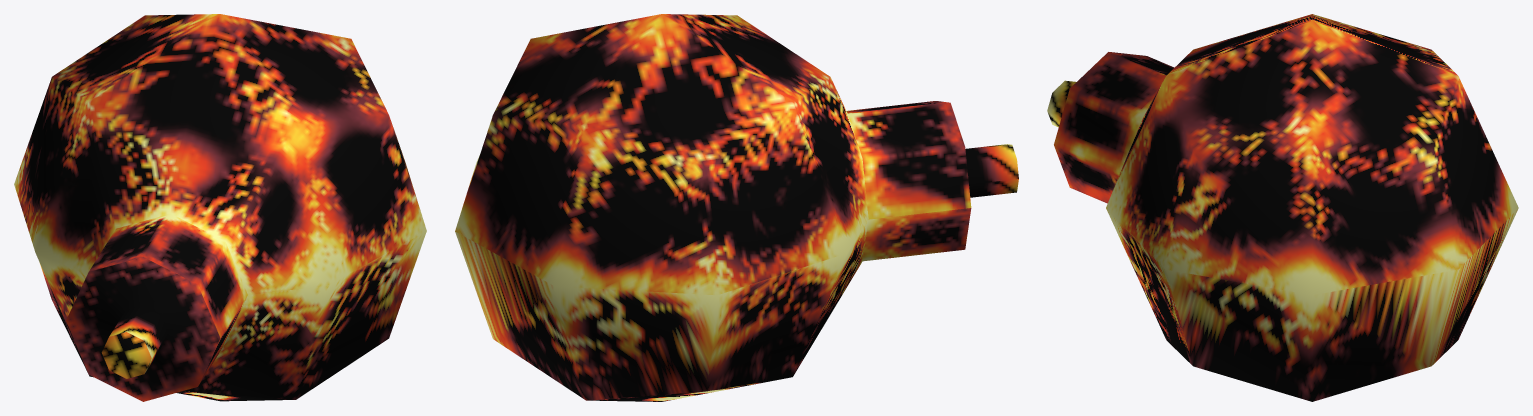
The model's file is madBomb.fbx.
3 views of the same model, side by side, from view 1: azimuth 30°, elevation 25°; view 2: azimuth 150°, elevation 25°; view 3: azimuth 270°, elevation 25° (orthographic). The views are drawn at different scales.
Parts seen in each view (by area): view 1: TotallyNotSeriousBomb; view 2: TotallyNotSeriousBomb; view 3: TotallyNotSeriousBomb.
Part boxes in pixels (x1,y1,x2,y2): TotallyNotSeriousBomb: [14, 14, 426, 401]; TotallyNotSeriousBomb: [455, 14, 1018, 401]; TotallyNotSeriousBomb: [1047, 14, 1518, 401].
Bounding box in the file's own units: 2.65 × 2.32 × 2.65.
